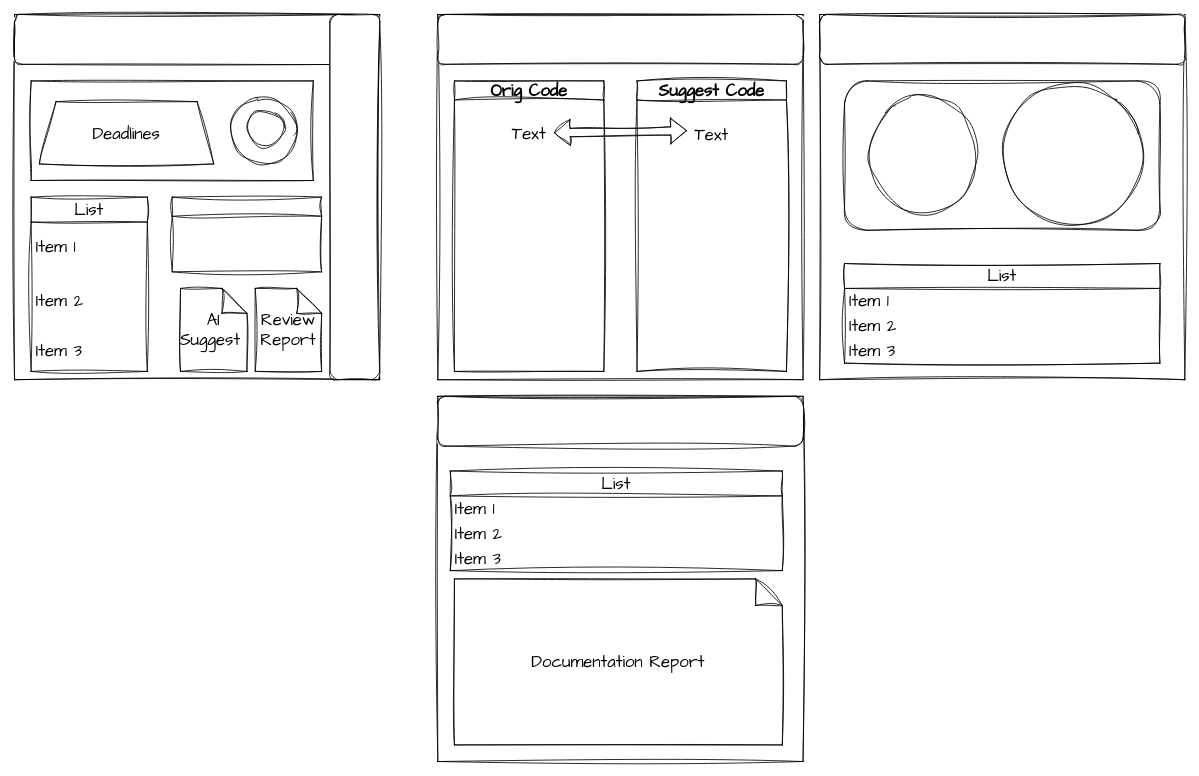
This 1199x776 diagram has some shape labels left out. Here are the shapes that lost their labels. From the top down, the centre of each, then its label:
(265,128): Progress
(923,154): User Profile
(1072,154): User Ratings For current project
(246,234): Exha. Report
